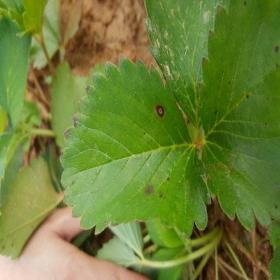Leaf Spot: (59, 55, 213, 238), (196, 0, 279, 233)
